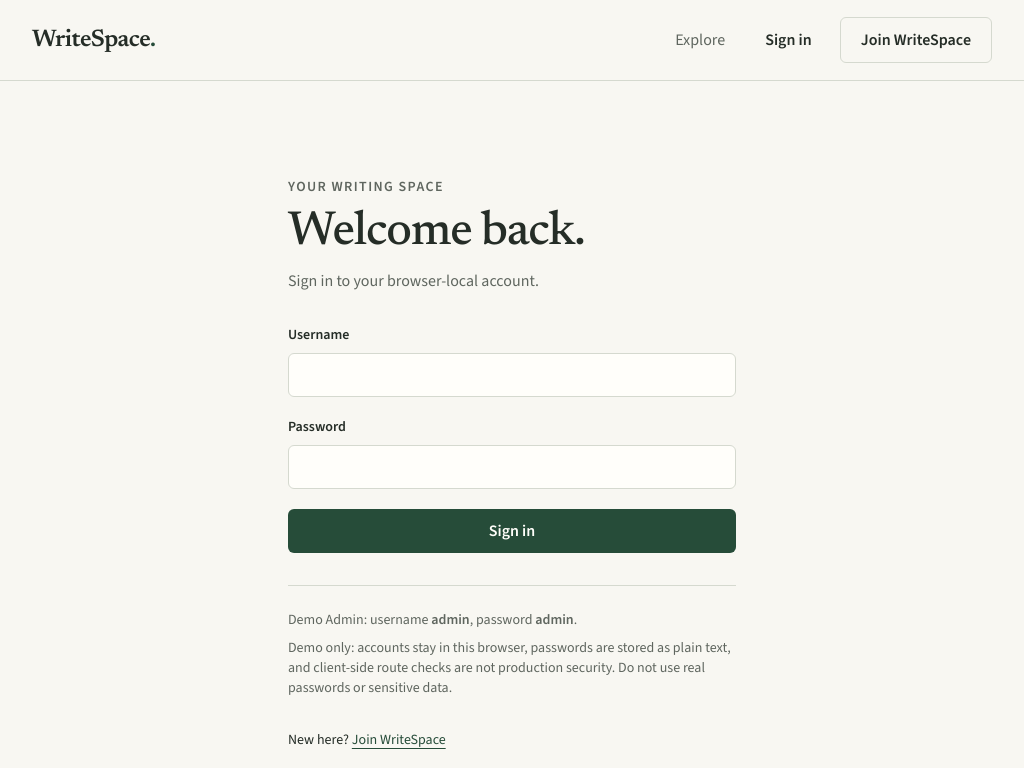
Scenario: real account journeys › logs in admin through explicit submission and reflects role state
This screenshot has width=1024, height=768.
Step 1. Type "admin" into the field labelled "Username" → (512, 375), box [288,353,736,397]
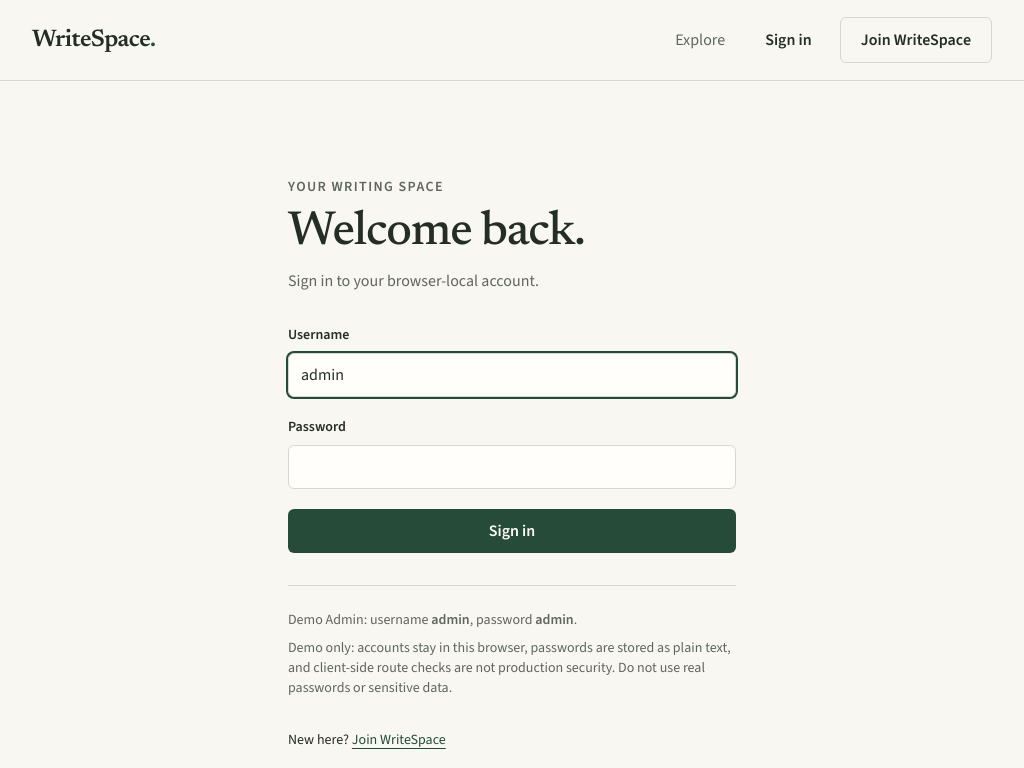
Step 2. Type "admin" into the password field labelled "Password" → (512, 467), box [288,445,736,489]
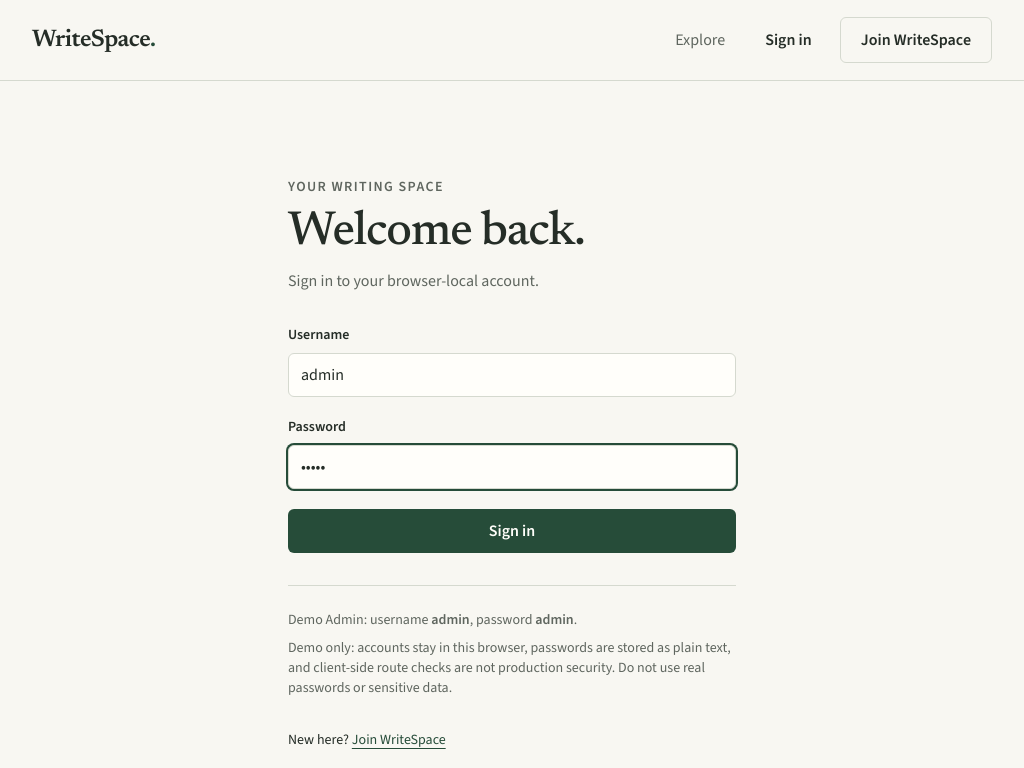
Step 3. Click the button "Sign in" → (512, 531), box [288,509,736,553]
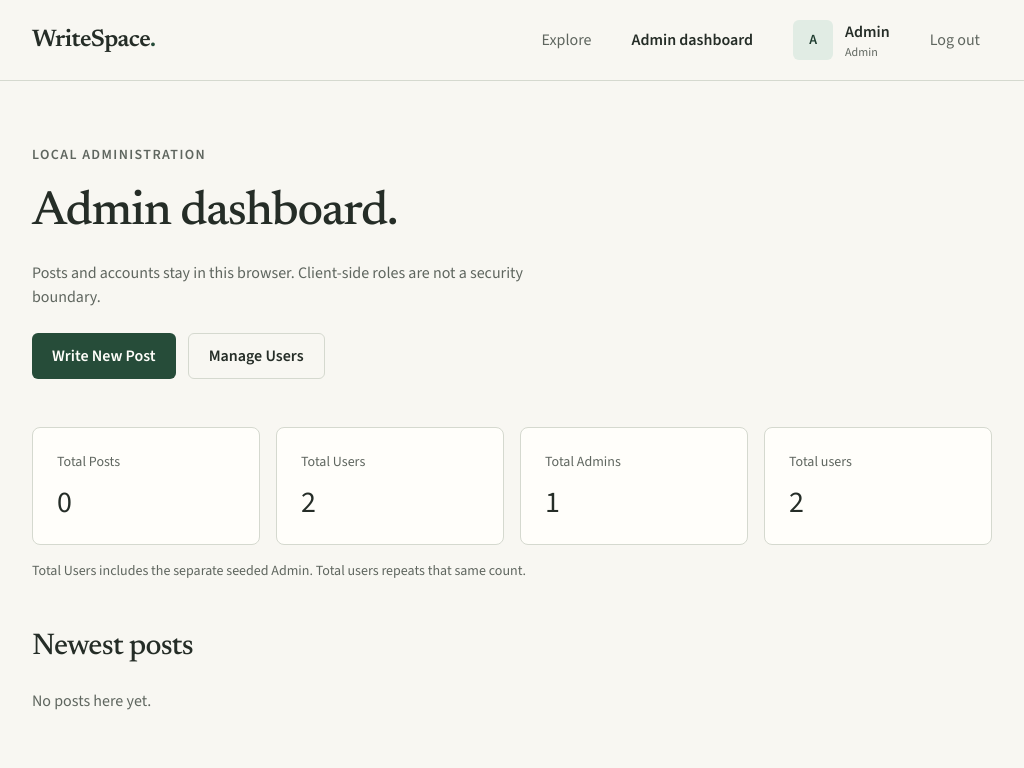
Now the link "Admin dashboard" is shown, box [632,29,753,50]
Now the 1st text "Admin" is shown, box [845,20,890,44]
